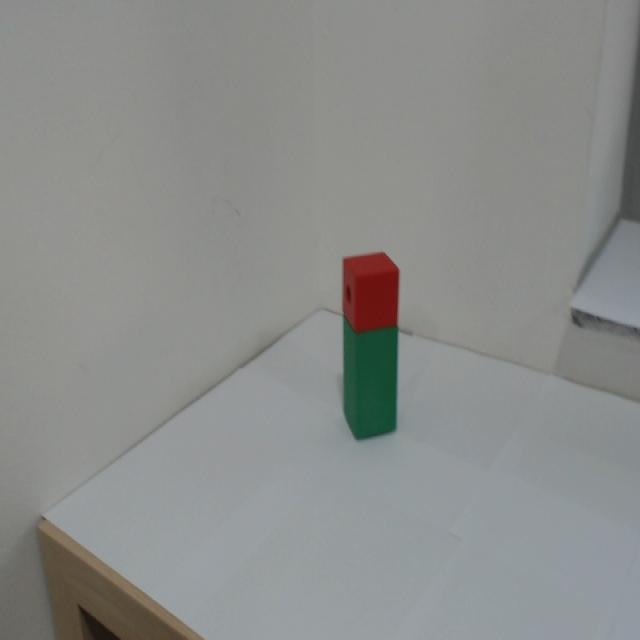cube: (331, 250, 411, 332)
